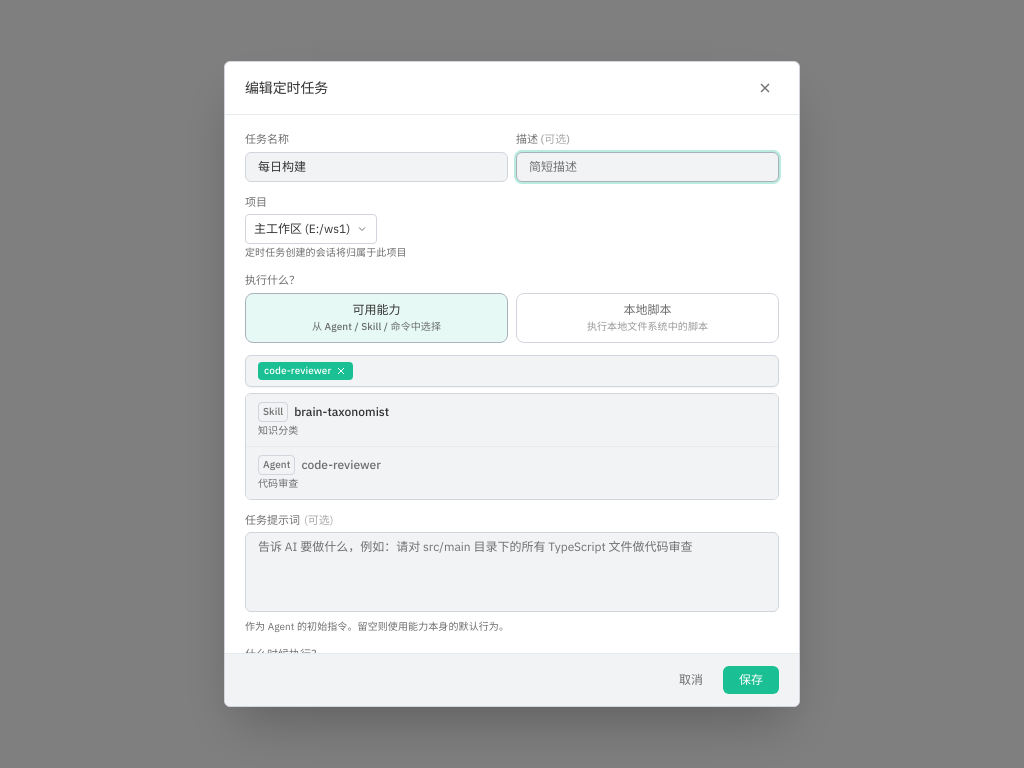
Test case: 表单标签与控件关联（H6） › 切到「本地脚本」后，脚本路径的标签仍点得到对应控件
Expected: the text "code-reviewer" is shown, [258,362,353,380]
Click the button "本地脚本 执行本地文件系统中的脚本".
click(648, 318)  # box [516,293,779,343]
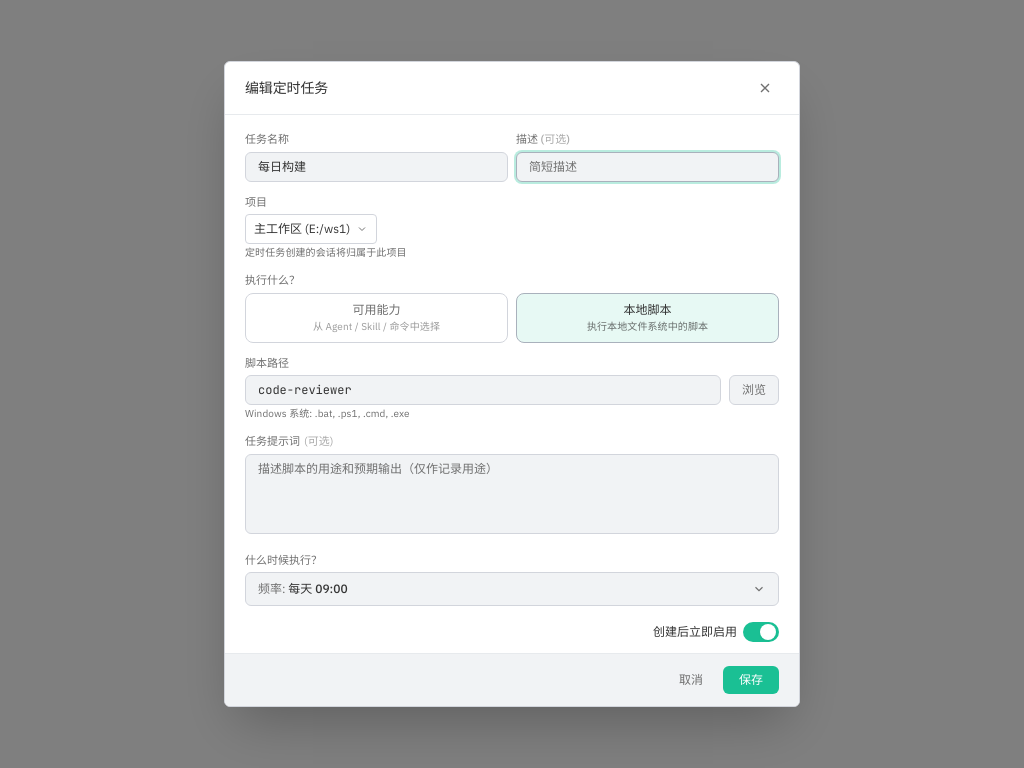
Expected: the field labelled "脚本路径" is shown, [245,375,721,405]
